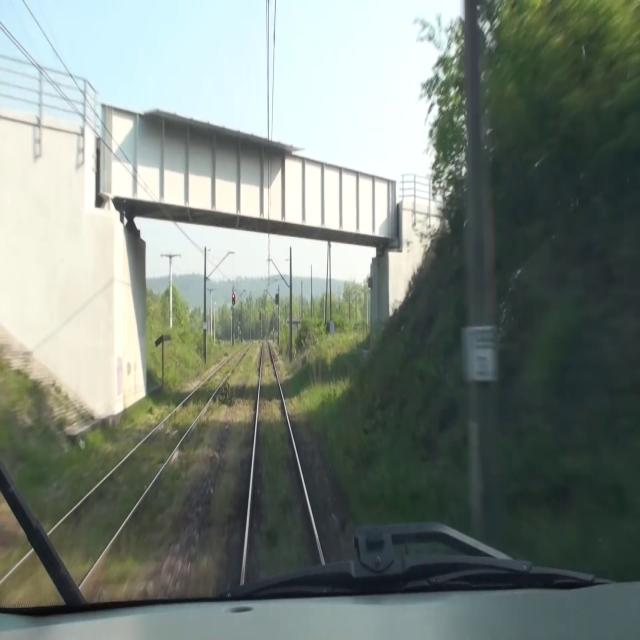rail-track: (0, 348, 245, 607), (244, 340, 321, 585)
